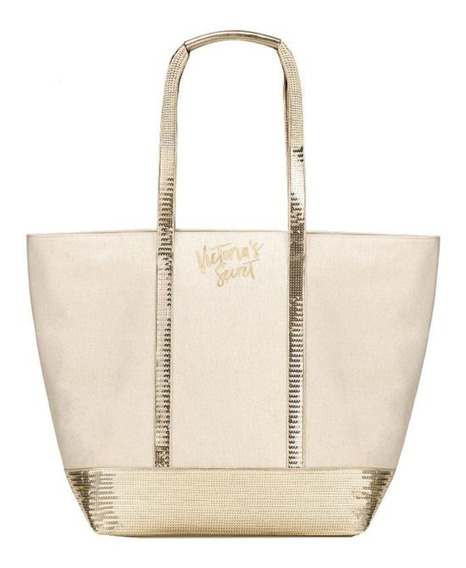cartera: (22, 28, 440, 540)
